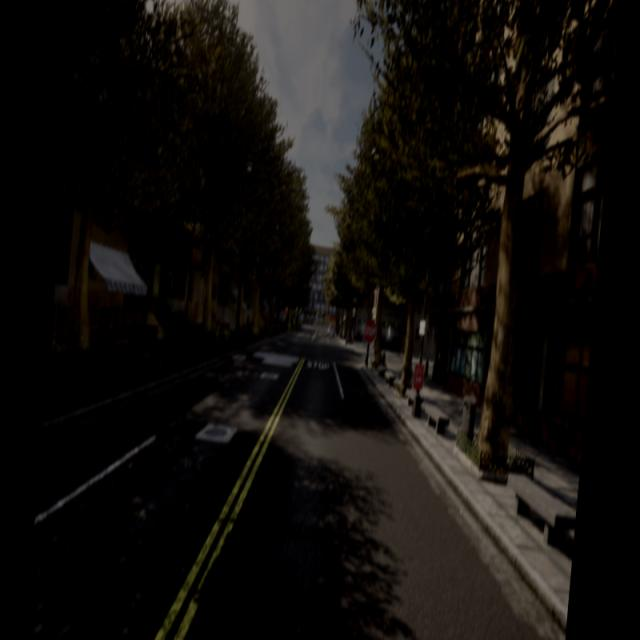stop sign: (360, 314, 378, 368), (362, 316, 378, 344)
